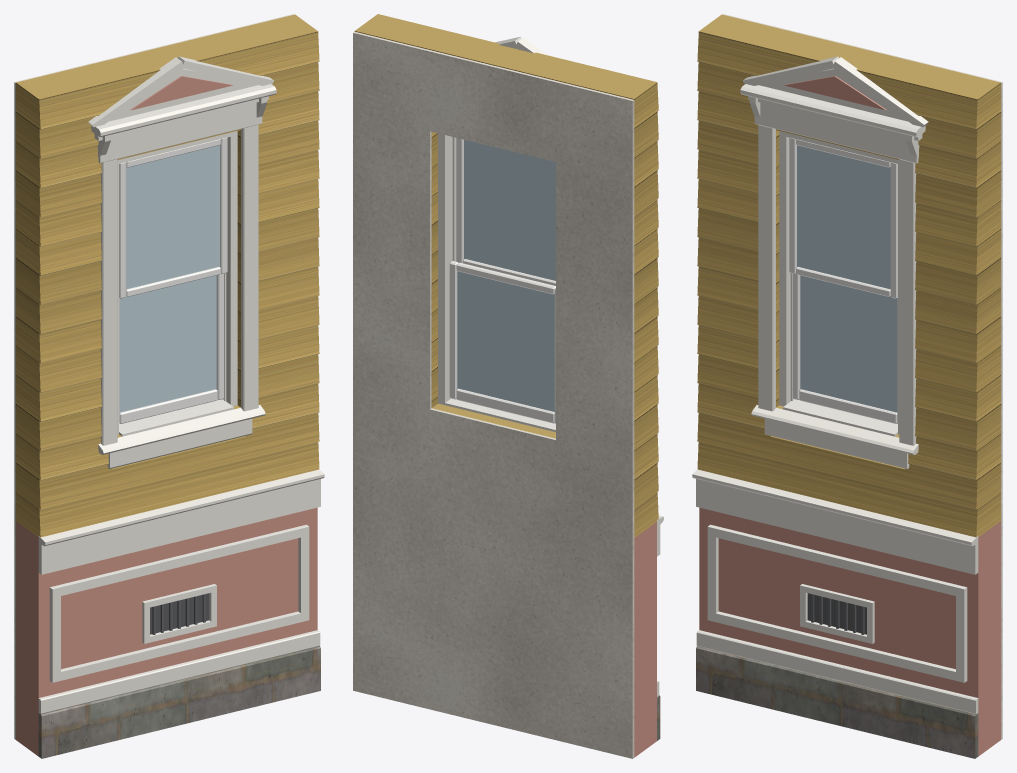
File: f_g_win_a.glb
3 renders of one model, left to right at view 1: azimuth 30°, elevation 25°; view 2: azimuth 150°, elevation 25°; view 3: azimuth 330°, elevation 25°, orthographic.
Visible parts, largest first — view 1: f_g_win_a_siding_a, f_g_win_a_trim, f_g_win_a_acc_a, f_g_win_a_glass, f_g_win_a_plinth, f_g_win_a_sash, f_g_win_a_frame, f_g_win_a_plaster, f_g_win_a_dark, f_g_win_a_iron; view 2: f_g_win_a_plaster, f_g_win_a_glass, f_g_win_a_siding_a, f_g_win_a_sash, f_g_win_a_acc_a, f_g_win_a_frame, f_g_win_a_trim; view 3: f_g_win_a_siding_a, f_g_win_a_trim, f_g_win_a_acc_a, f_g_win_a_glass, f_g_win_a_plinth, f_g_win_a_sash, f_g_win_a_frame, f_g_win_a_plaster, f_g_win_a_dark, f_g_win_a_iron.
Boxes of the visible parts, x1,y1,x2,y2 form: f_g_win_a_siding_a: (16,14,319,537); f_g_win_a_trim: (38,56,324,713); f_g_win_a_acc_a: (16,76,317,756); f_g_win_a_glass: (119,145,219,412); f_g_win_a_plinth: (38,646,320,758); f_g_win_a_sash: (119,137,227,423); f_g_win_a_frame: (117,131,237,434); f_g_win_a_plaster: (14,14,293,739); f_g_win_a_dark: (150,593,209,634); f_g_win_a_iron: (152,594,205,634); f_g_win_a_plaster: (353,31,634,758); f_g_win_a_glass: (457,139,555,411); f_g_win_a_siding_a: (354,14,658,537); f_g_win_a_sash: (449,138,555,423); f_g_win_a_acc_a: (634,522,656,757); f_g_win_a_frame: (438,133,456,404); f_g_win_a_trim: (445,36,663,696); f_g_win_a_siding_a: (697,14,1000,537); f_g_win_a_trim: (692,56,978,713); f_g_win_a_acc_a: (699,76,1000,756); f_g_win_a_glass: (797,145,897,412); f_g_win_a_plinth: (696,646,978,758); f_g_win_a_sash: (789,137,897,423); f_g_win_a_frame: (779,131,899,434); f_g_win_a_plaster: (723,14,1002,739); f_g_win_a_dark: (807,593,866,634); f_g_win_a_iron: (811,594,864,634).
Bounding box in the file's own units: 2 × 4.55 × 0.43.
Materials: 10 (3 with a texture image).
